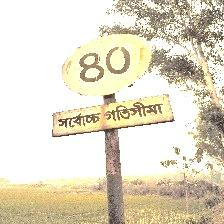Speed-limit: (55, 32, 171, 137)
